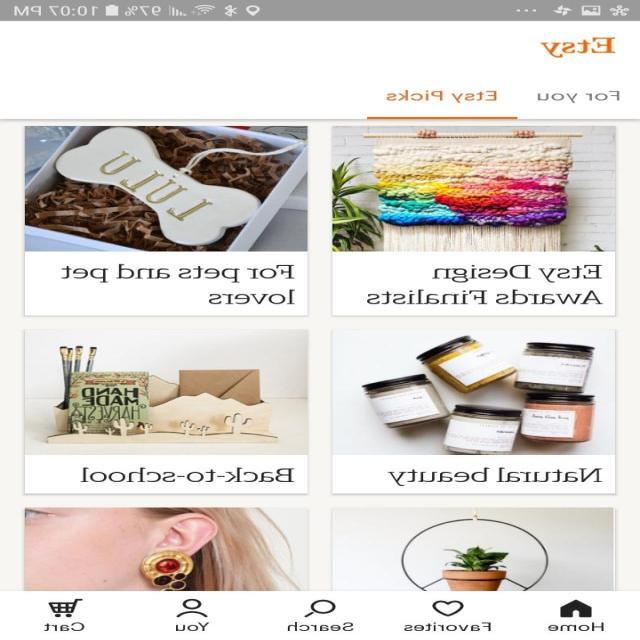Icon: (48, 598, 84, 617), (177, 598, 209, 617), (305, 598, 337, 617), (560, 599, 592, 617), (432, 599, 465, 616)
Image: (333, 329, 616, 455), (333, 126, 617, 251), (25, 329, 308, 454), (25, 126, 308, 251), (24, 506, 308, 590), (332, 506, 614, 590)
Text: (366, 264, 604, 304), (61, 264, 296, 304), (388, 467, 604, 486), (81, 466, 296, 482), (540, 37, 616, 58), (387, 89, 498, 103), (538, 90, 620, 103), (404, 622, 492, 631), (288, 621, 355, 630), (548, 621, 604, 631), (176, 621, 211, 631), (46, 622, 86, 630)
